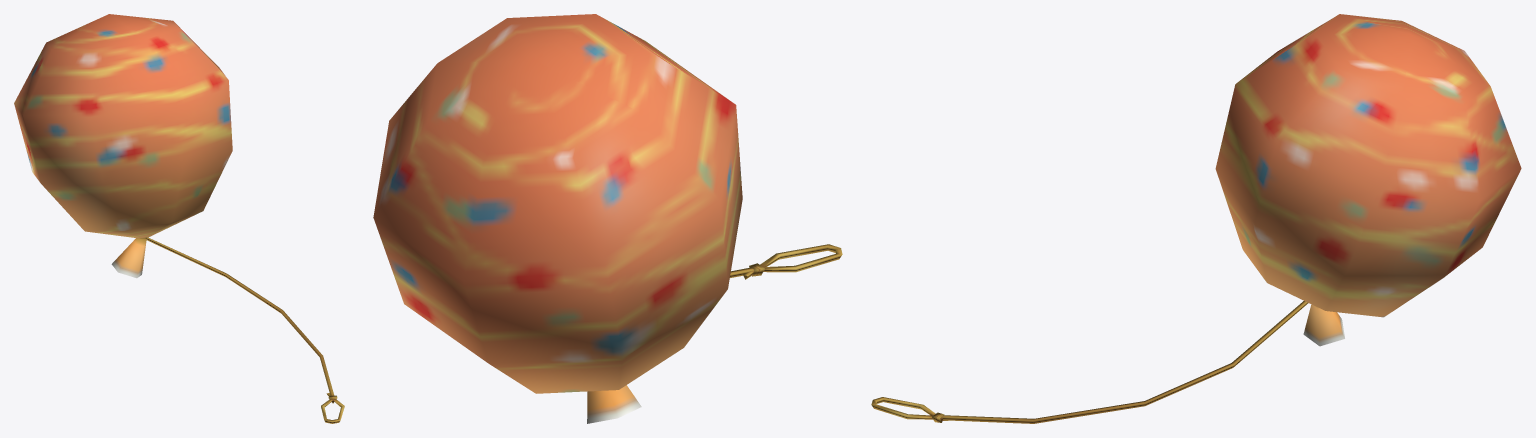
File: jsf_WaterBalloon_01_e.fbx
3 views of the same model, side by side, from view 1: azimuth 30°, elevation 25°; view 2: azimuth 150°, elevation 25°; view 3: azimuth 270°, elevation 25° (orthographic). The views are drawn at different scales.
Visible parts, largest first — view 1: jsf_WaterBalloon_01_e; view 2: jsf_WaterBalloon_01_e; view 3: jsf_WaterBalloon_01_e.
Part boxes in pixels (x1=…): jsf_WaterBalloon_01_e: x1=14, y1=14, x2=344, y2=423; jsf_WaterBalloon_01_e: x1=373, y1=14, x2=842, y2=423; jsf_WaterBalloon_01_e: x1=871, y1=14, x2=1521, y2=423.
Size of the model in its own units: 10.92 by 14.38 by 23.6.
